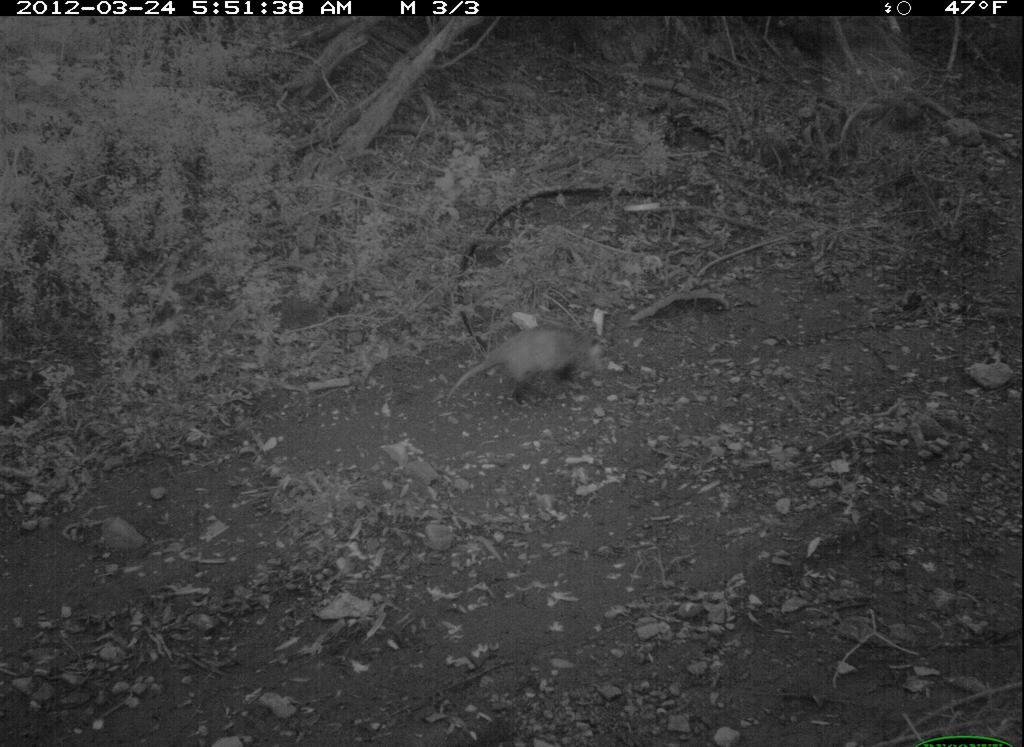opossum: (443, 323, 605, 418)
